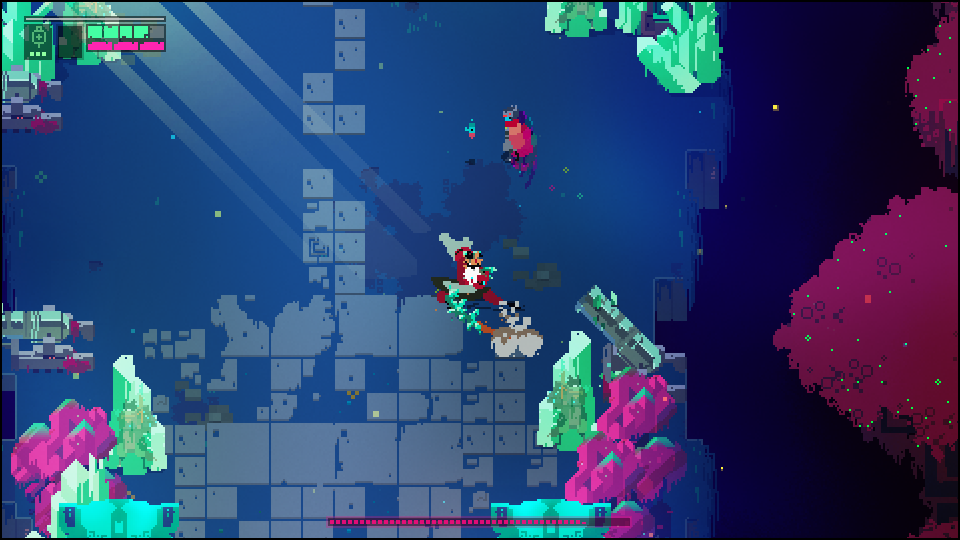hanged_man: (429, 227, 523, 337)
player: (502, 103, 534, 173)
